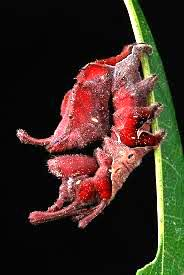Caterpillar: (16, 28, 163, 228)
